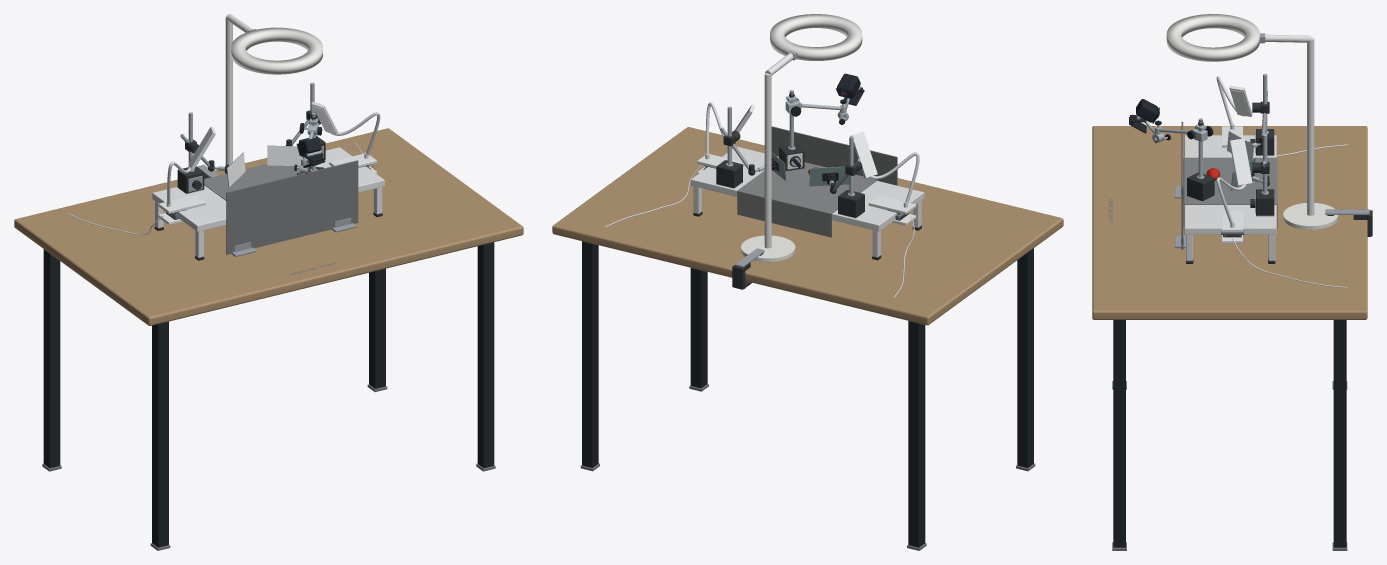
The model's file is 河口案-鏡システム-クリップライト.fbx.
3 renders of one model, left to right at view 1: azimuth 30°, elevation 25°; view 2: azimuth 150°, elevation 25°; view 3: azimuth 270°, elevation 25°, orthographic.
Parts seen in each view (by area): view 1: Layout_Ash worktop.006, Background | grey plastic 420 x 190 x 4 mm, Layout_Steel table leg.026, Layout_Steel table leg.025, Layout_Steel table leg.024, Layout_10 inch white ring shell.006, 100-MR217W | Deck 600 x 250 x 20 mm profile, Layout_Steel table leg.027, Mat | uncut 300 x 400 mm, draped front and back, Ring | rear table stand column, Layout_Optical reflecting face.012; view 2: Layout_Ash worktop.006, Mat | uncut 300 x 400 mm, draped front and back, Layout_Steel table leg.025, Layout_Steel table leg.027, Layout_Steel table leg.024, 100-MR217W | Deck 600 x 250 x 20 mm profile, Layout_10 inch white ring shell.006, Background | grey plastic 420 x 190 x 4 mm, Layout_Steel table leg.026, Ring | rear table stand column, Layout_Round weighted white base.006, Left LED head 42x125x10.002 (+2 smaller); view 3: Layout_Ash worktop.006, Layout_Steel table leg.027, 100-MR217W | Deck 600 x 250 x 20 mm profile, Layout_Steel table leg.026, Layout_10 inch white ring shell.006, Mat | uncut 300 x 400 mm, draped front and back, Ring | rear table stand column, Layout_Round weighted white base.006, Right LED head 42x125x10.002, Layout_Magnetic base 58x50x55.018, Layout_Magnetic base 58x50x55.019, Right clip upper jaw.002 (+4 smaller).
Part boxes in pixels (box(x1,y1,x2,y2)): Layout_Ash worktop.006: box(14, 128, 523, 325); Background | grey plastic 420 x 190 x 4 mm: box(226, 160, 358, 254); Layout_Steel table leg.026: box(477, 242, 494, 467); Layout_Steel table leg.025: box(43, 249, 60, 468); Layout_Steel table leg.024: box(152, 321, 168, 547); Layout_10 inch white ring shell.006: box(231, 27, 322, 74); 100-MR217W | Deck 600 x 250 x 20 mm profile: box(152, 147, 384, 231); Layout_Steel table leg.027: box(369, 268, 385, 388); Mat | uncut 300 x 400 mm, draped front and back: box(204, 164, 301, 200); Ring | rear table stand column: box(225, 16, 232, 173); Layout_Optical reflecting face.012: box(267, 146, 307, 165); Layout_Ash worktop.006: box(552, 127, 1063, 325); Mat | uncut 300 x 400 mm, draped front and back: box(737, 162, 877, 237); Layout_Steel table leg.025: box(908, 321, 925, 547); Layout_Steel table leg.027: box(582, 241, 598, 467); Layout_Steel table leg.024: box(1017, 248, 1033, 467); 100-MR217W | Deck 600 x 250 x 20 mm profile: box(691, 146, 924, 231); Layout_10 inch white ring shell.006: box(770, 14, 862, 60); Background | grey plastic 420 x 190 x 4 mm: box(771, 126, 897, 185); Layout_Steel table leg.026: box(690, 268, 707, 388); Ring | rear table stand column: box(764, 73, 771, 248); Layout_Round weighted white base.006: box(741, 235, 795, 262); Left LED head 42x125x10.002: box(850, 131, 877, 178); Layout_Ash worktop.006: box(1092, 126, 1367, 319); Layout_Steel table leg.027: box(1333, 320, 1346, 547); 100-MR217W | Deck 600 x 250 x 20 mm profile: box(1184, 135, 1276, 234); Layout_Steel table leg.026: box(1113, 320, 1125, 547); Layout_10 inch white ring shell.006: box(1166, 14, 1259, 61); Mat | uncut 300 x 400 mm, draped front and back: box(1183, 157, 1277, 228); Ring | rear table stand column: box(1307, 37, 1314, 215); Layout_Round weighted white base.006: box(1283, 203, 1338, 229); Right LED head 42x125x10.002: box(1229, 138, 1252, 185); Layout_Magnetic base 58x50x55.018: box(1187, 172, 1214, 200); Layout_Magnetic base 58x50x55.019: box(1256, 189, 1274, 215); Right clip upper jaw.002: box(1222, 211, 1242, 232).
Size of the model in its own units: 120 by 130 by 76.4.
